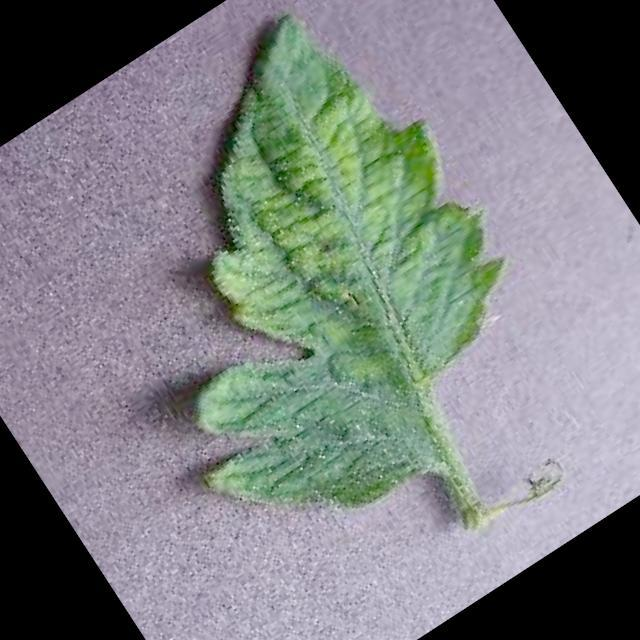Tomato mosaic virus leaf: (10, 0, 582, 573)
